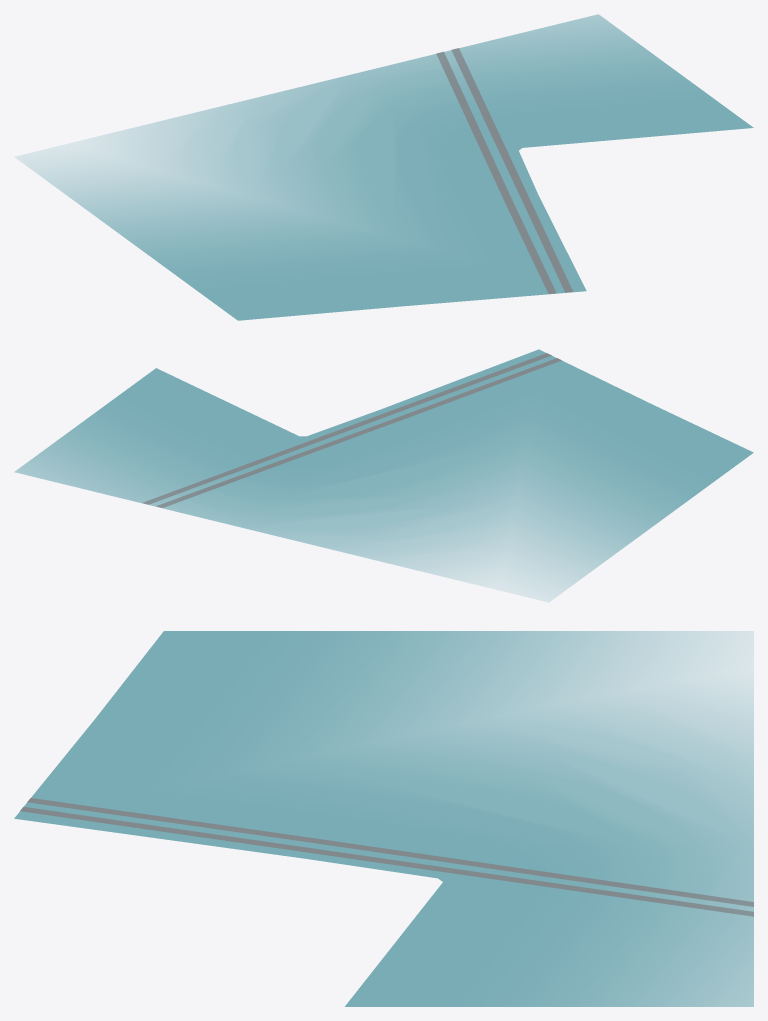
3 views of the same model, one above another, from view 1: azimuth 30°, elevation 25°; view 2: azimuth 150°, elevation 25°; view 3: azimuth 270°, elevation 25° (orthographic). The views are drawn at different scales.
Visible parts, largest first — view 1: city; view 2: city; view 3: city.
Boxes of the visible parts, x1,y1,x2,y2 form: city: (15, 14, 753, 320); city: (14, 349, 753, 601); city: (14, 631, 753, 1006).
Size of the model in its own units: 500 by 0.24 by 416.
